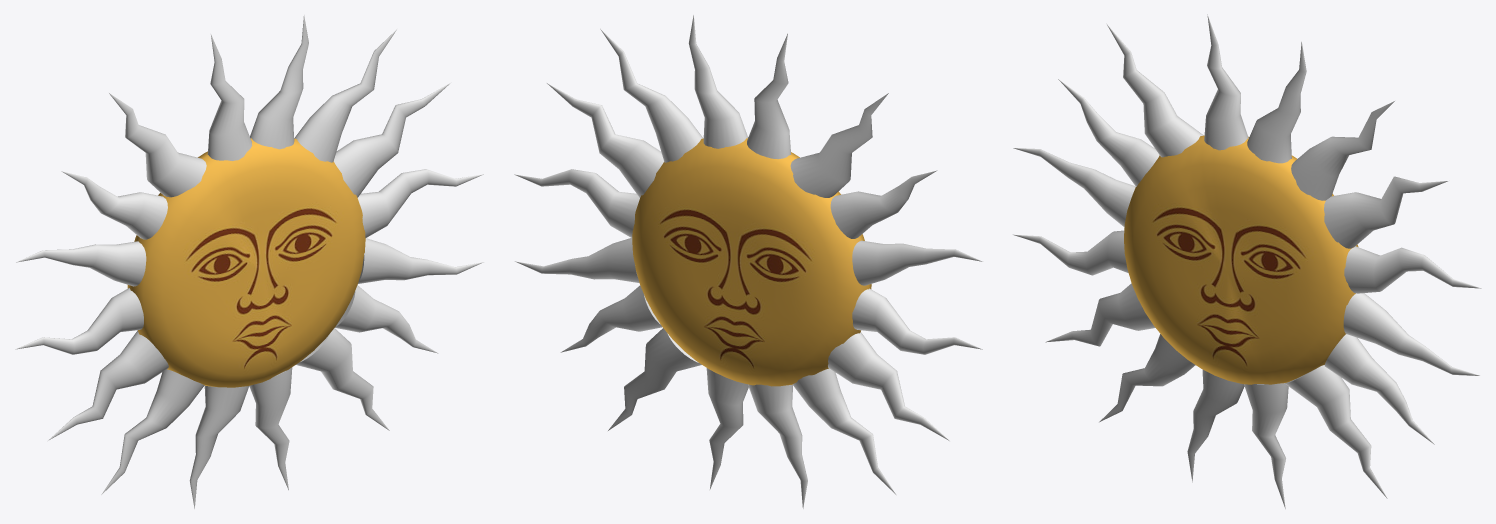
Rendered from item act fuego 2.FBX.
3 views of the same model, side by side, from view 1: azimuth 30°, elevation 25°; view 2: azimuth 150°, elevation 25°; view 3: azimuth 330°, elevation 25° (orthographic).
Visible parts, largest first — view 1: rayos, sol; view 2: rayos, sol; view 3: rayos, sol.
Part boxes in pixels (left/top/right/bottom): rayos: left=15, top=15, right=483, bottom=508; sol: left=127, top=138, right=365, bottom=387; rayos: left=514, top=15, right=982, bottom=508; sol: left=632, top=137, right=871, bottom=386; rayos: left=1013, top=14, right=1481, bottom=508; sol: left=1124, top=135, right=1358, bottom=384.
Bounding box in the file's own units: 93.78 × 90.99 × 11.75.
